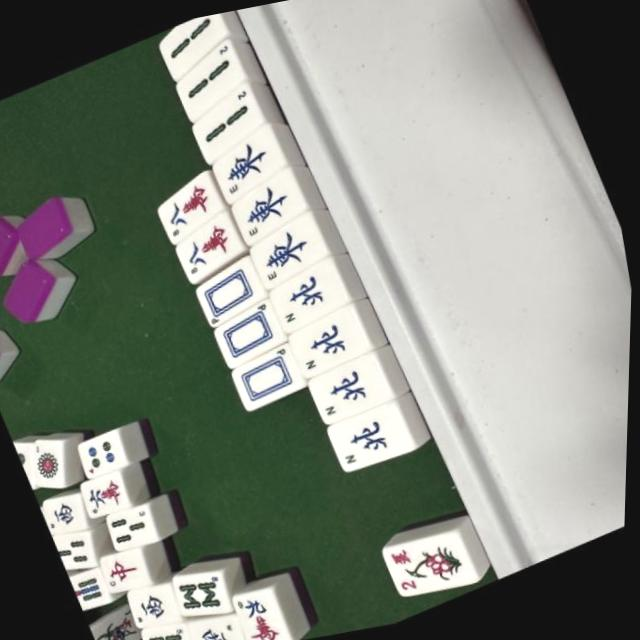bs2: (381, 516, 486, 612)
hdw: (210, 299, 293, 371), (230, 342, 313, 414), (193, 258, 275, 330)
hwe: (229, 177, 308, 244), (210, 136, 288, 202), (250, 220, 327, 286)
hwn: (292, 314, 364, 379), (270, 266, 342, 330), (332, 411, 405, 474), (314, 361, 384, 422)
sb2: (170, 44, 252, 112), (189, 87, 268, 155), (157, 12, 231, 68)
sc8: (172, 213, 255, 286), (153, 175, 234, 246)
